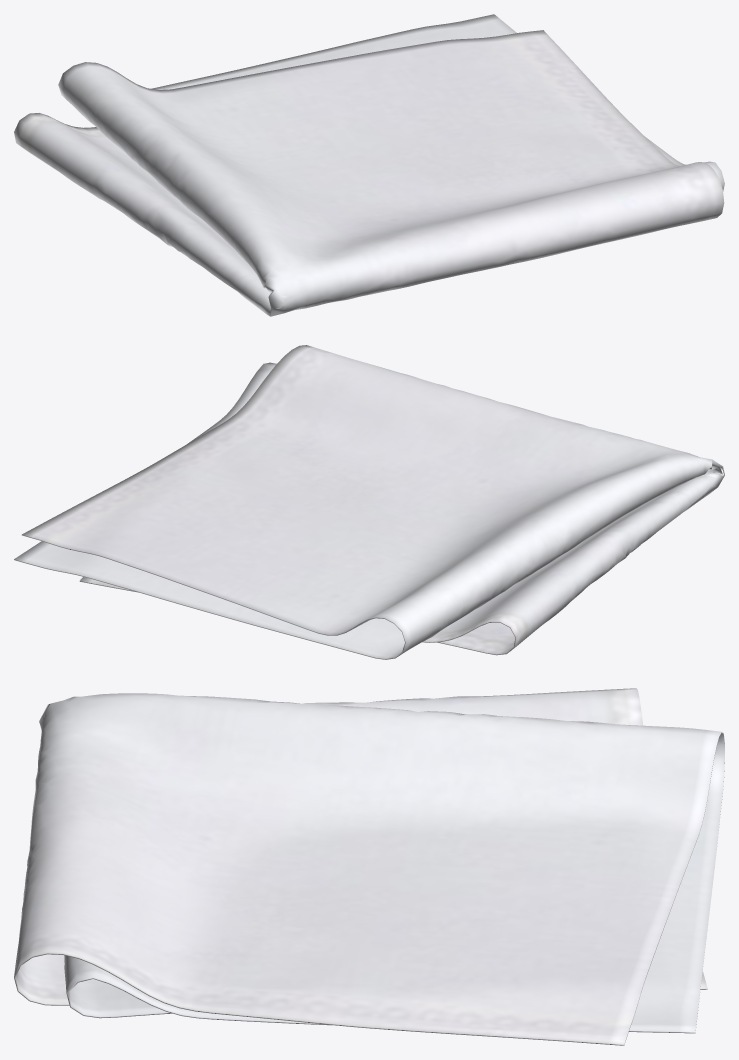
File: napkin.fbx
3 renders of one model, top to bottom at view 1: azimuth 30°, elevation 25°; view 2: azimuth 150°, elevation 25°; view 3: azimuth 270°, elevation 25°, orthographic. The views are drawn at different scales.
Parts seen in each view (by area): view 1: napkin; view 2: napkin; view 3: napkin.
Part boxes in pixels (<box>): napkin: <box>14,14,724,316</box>; napkin: <box>14,345,724,659</box>; napkin: <box>14,688,724,1045</box>.
Size of the model in its own units: 129 by 12.53 by 122.
